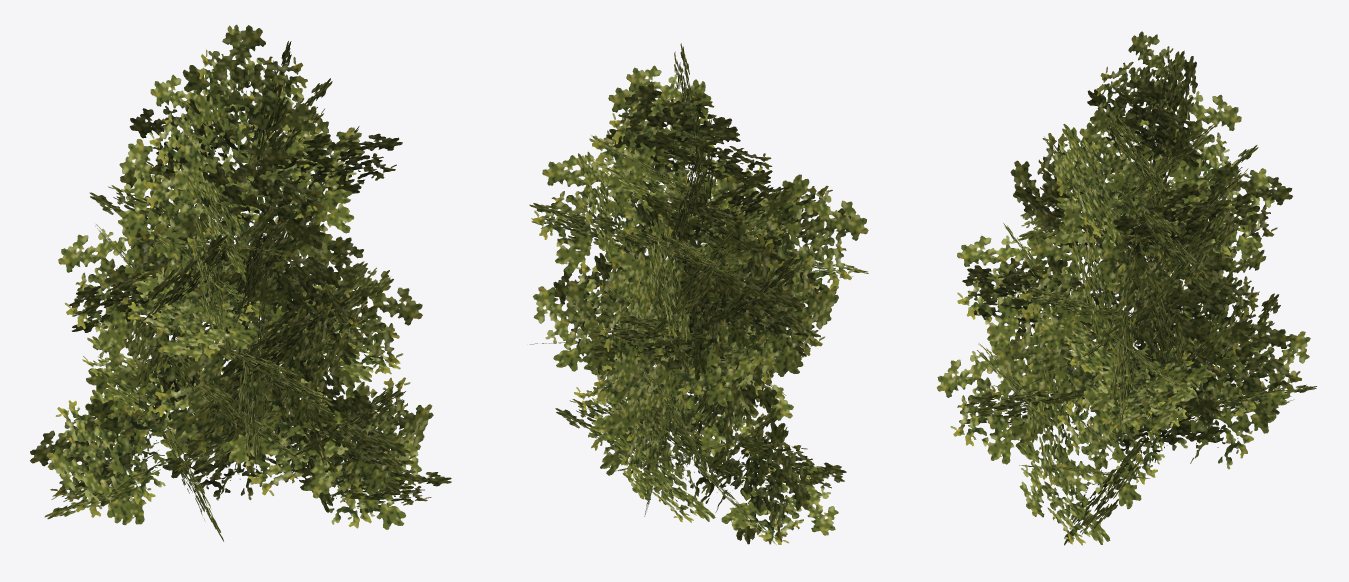
Rendered from busch_3.glb.
3 renders of one model, left to right at view 1: azimuth 30°, elevation 25°; view 2: azimuth 150°, elevation 25°; view 3: azimuth 270°, elevation 25°, orthographic. The views are drawn at different scales.
Parts seen in each view (by area): view 1: laub; view 2: laub; view 3: laub.
Boxes of the visible parts, x1=… form: laub: x1=30, y1=24, x2=451, y2=541; laub: x1=529, y1=43, x2=868, y2=544; laub: x1=936, y1=31, x2=1316, y2=545.
Bounding box in the file's own units: 2.25 × 3 × 2.35.
Materials: 1 (1 with a texture image).
